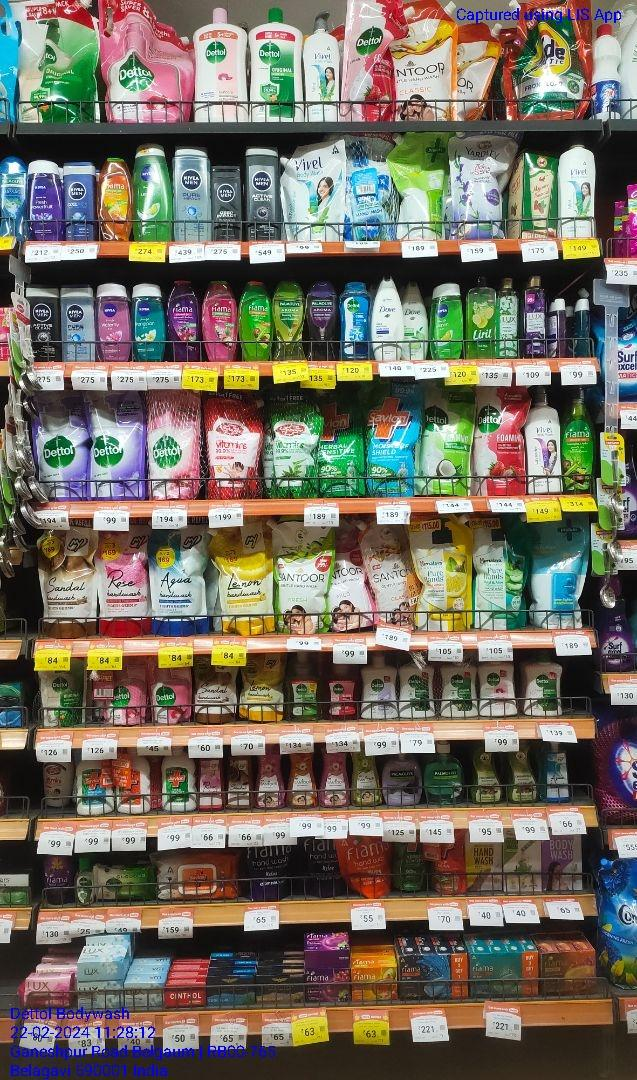Dettol_Bodywash_Cool: (339, 283, 371, 359)
Dove_Deep_Moisture_Body_Wash_250ML: (374, 278, 404, 363)
Dove_Refreshing_Body_Wash_250ML: (406, 282, 429, 360)
Fiama_Shower_Gel_Lemongrass_and_Jojoba_250ML: (240, 282, 272, 360)
Fiama_Shower_Gel_Patchouli_and_Macadamia_250ML: (201, 279, 237, 360)
Fiama_Shower_Gel_Peach_and_Avocado_250ML: (98, 158, 130, 241)
Liril_Lime_and_Tea_Tree_Oil_Body_Wash_250ML: (467, 273, 498, 360)
Lux_Black_Orchid_Scent_and_Juniper_Oil_Body_Wash_245ML: (522, 278, 546, 358)
Lux_Body_Wash_Skin_Detox_Freesia_Scent_and_Alove_Vera_245ML: (501, 277, 519, 357)
Nivea_Shower_Gel_Frangipani_and_Oil_250ML: (134, 283, 165, 361)
Nivea_Shower_Gel_Fresh_Powerfruit_250ML: (32, 160, 64, 241)
Nivea_Shower_Gel_Lemon_and_Oil_250ML: (133, 144, 171, 242), (430, 284, 463, 358)
Nivea_Shower_Gel_Waterlily_and_Oil_250ML: (96, 286, 132, 360)
Palmolive_Aroma_Moments_Feel_The_Massage_Shower_Gel_250ML: (1, 159, 30, 237)
Palmolive_Aroma_Morning_Tonic_Shower_Gel_250ML: (274, 284, 306, 362)
Palmolive_Aroma_Relax_250ML: (308, 284, 336, 361)
